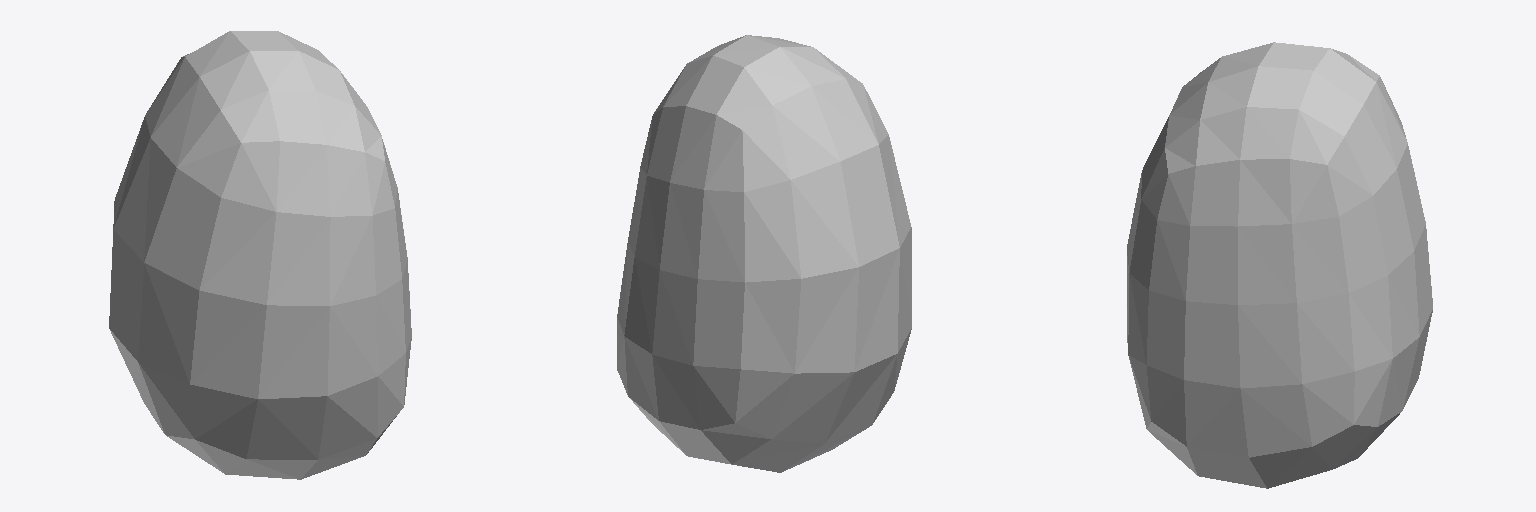
The model's file is Connective.bursa.Omentalis.007.obj.
3 views of the same model, side by side, from view 1: azimuth 30°, elevation 25°; view 2: azimuth 150°, elevation 25°; view 3: azimuth 270°, elevation 25° (orthographic).
Visible parts, largest first — view 1: Connective:bursa:Omentalis.007_bursa.006; view 2: Connective:bursa:Omentalis.007_bursa.006; view 3: Connective:bursa:Omentalis.007_bursa.006.
Boxes of the visible parts, box(x1,y1,x2,y2) form: Connective:bursa:Omentalis.007_bursa.006: box(109, 31, 411, 479); Connective:bursa:Omentalis.007_bursa.006: box(617, 35, 911, 472); Connective:bursa:Omentalis.007_bursa.006: box(1127, 42, 1432, 488).
Bounding box in the file's own units: 0.0244 × 0.0394 × 0.0262.